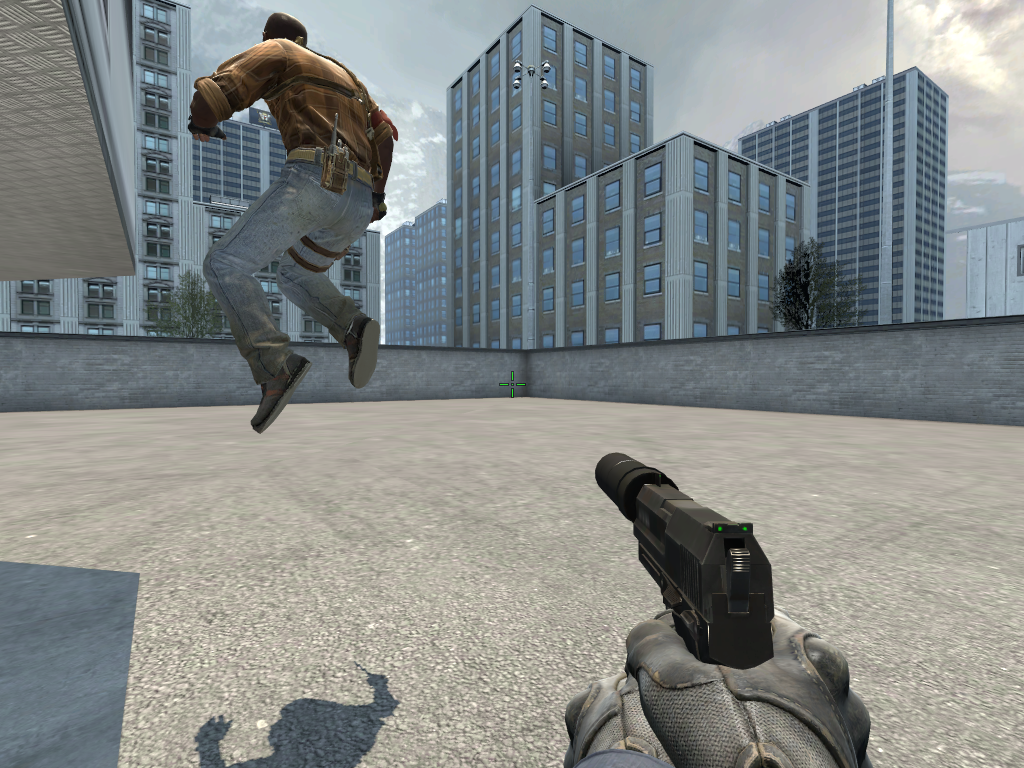tr head: (256, 9, 314, 59)
